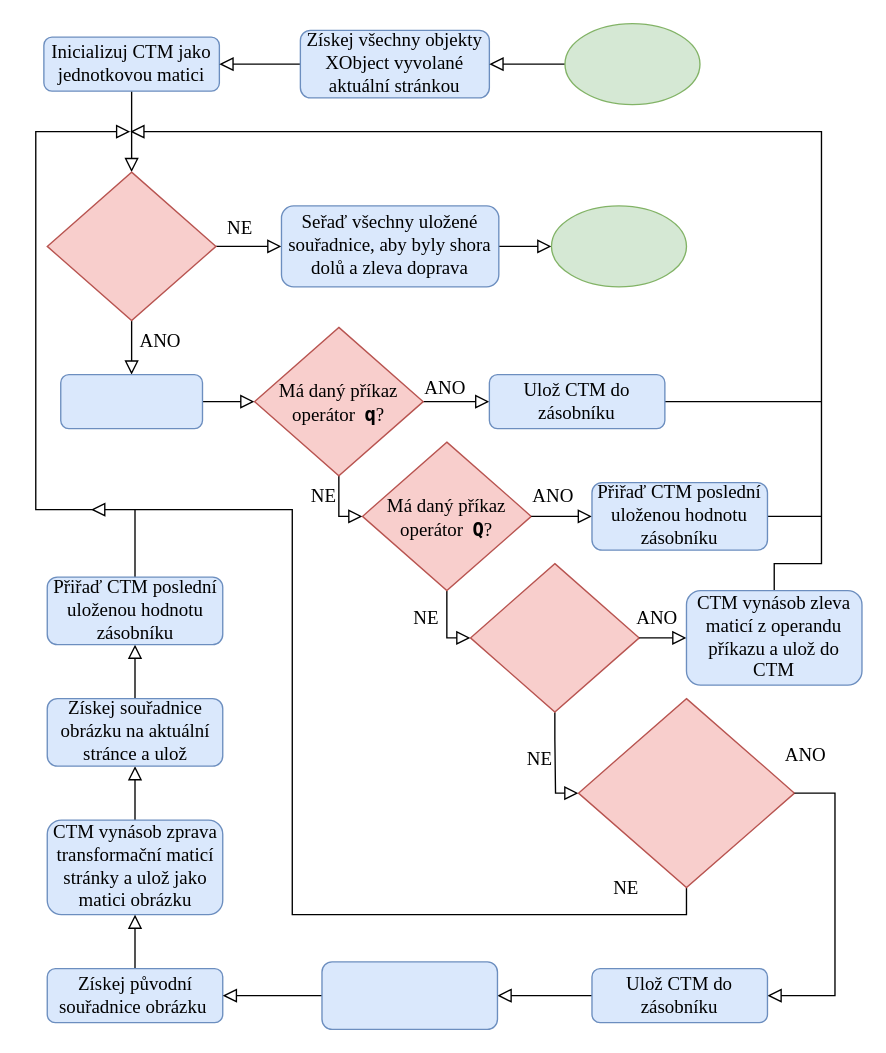
Image size: 886x1053. Some labels were removed from this diagram. Each missing label, with the centre of its shape:
"CTM vynásob zleva maticí obrázku a ulož do CTM" belongs at (x=409, y=995).
"END" belongs at (x=618, y=246).
"Má daný příkaz operátor cm ?" belongs at (x=554, y=637).
"Má daný příkaz operátor Do a je použit pro některý získaný XObject?" belongs at (x=685, y=792).
"START" belongs at (x=632, y=63).
"Vezmi další příkaz" belongs at (x=130, y=401).
"Zbývají příkazy uvnitř content streamu?" belongs at (x=131, y=246).
